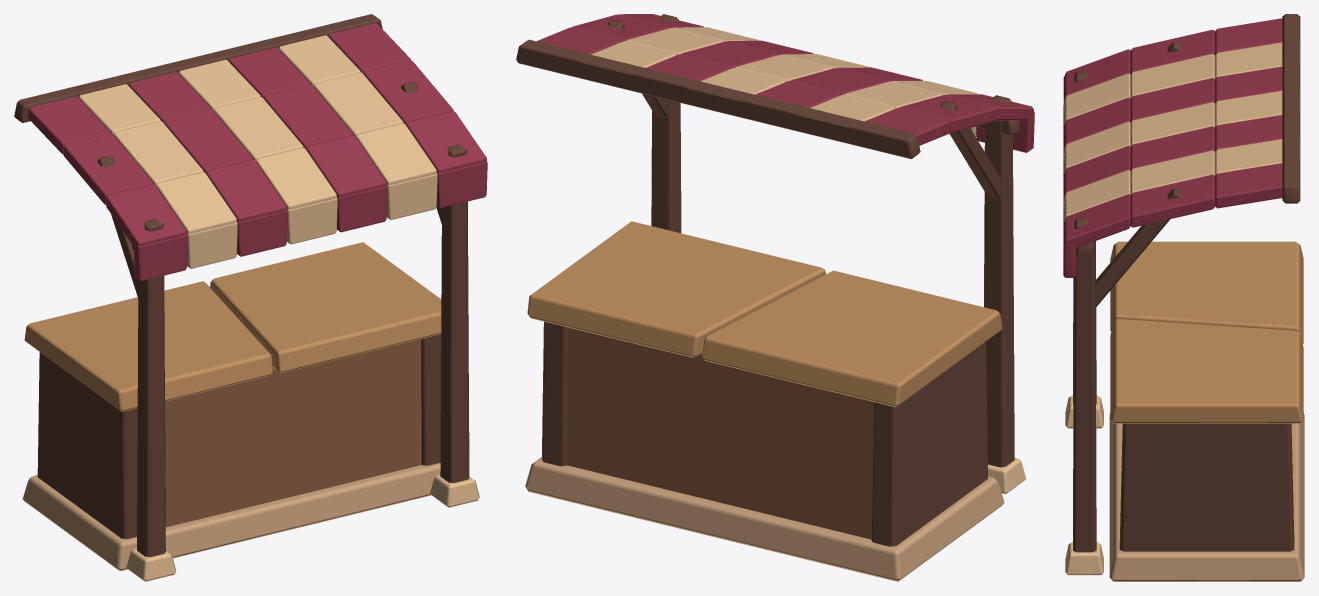
Rendered from village_stall.glb.
3 renders of one model, left to right at view 1: azimuth 30°, elevation 25°; view 2: azimuth 150°, elevation 25°; view 3: azimuth 270°, elevation 25°, orthographic. The views are drawn at different scales.
Visible parts, largest first — view 1: village_stall; view 2: village_stall; view 3: village_stall.
Boxes of the visible parts, x1=… form: village_stall: x1=14, y1=14, x2=487, y2=581; village_stall: x1=516, y1=14, x2=1034, y2=581; village_stall: x1=1063, y1=14, x2=1304, y2=581.
Bounding box in the file's own units: 2.51 × 2.68 × 1.46.
